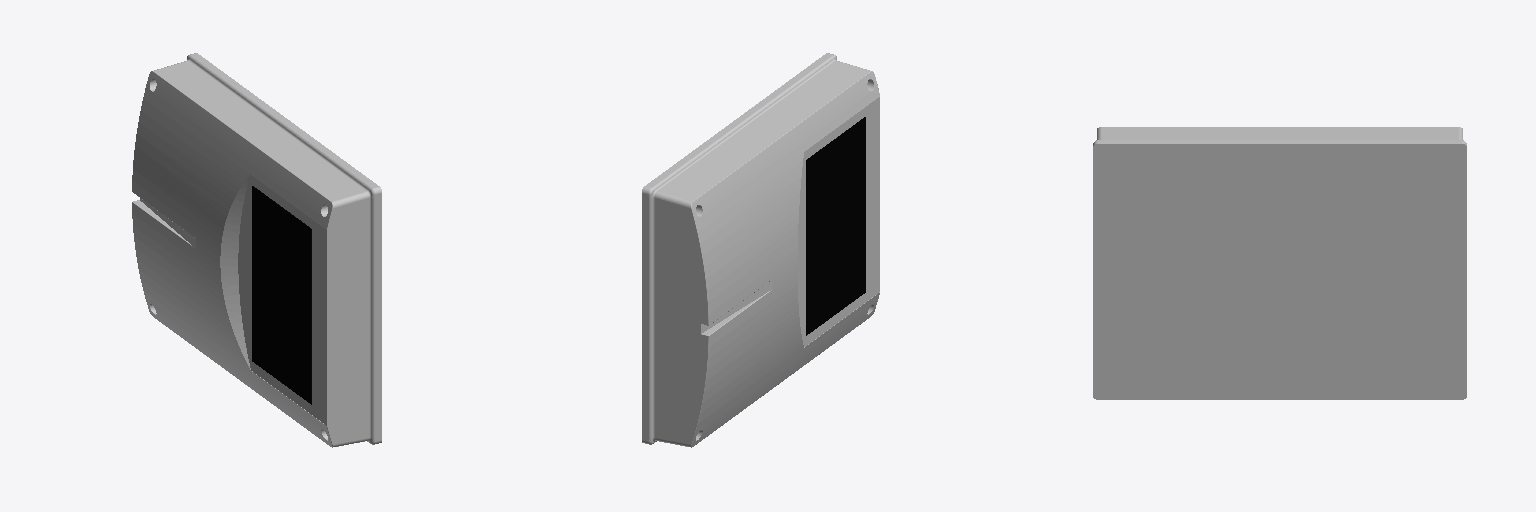
File: system_front.obj
3 views of the same model, side by side, from view 1: azimuth 30°, elevation 25°; view 2: azimuth 150°, elevation 25°; view 3: azimuth 270°, elevation 25° (orthographic).
Parts seen in each view (by area): view 1: frontcover, frontcover1; view 2: frontcover, frontcover1; view 3: frontcover.
Boxes of the visible parts, x1,y1,x2,y2 form: frontcover: [132, 53, 381, 447]; frontcover1: [252, 186, 311, 404]; frontcover: [642, 53, 879, 447]; frontcover1: [806, 117, 865, 335]; frontcover: [1093, 127, 1466, 399].
Bounding box in the file's own units: 70 × 263 × 348.